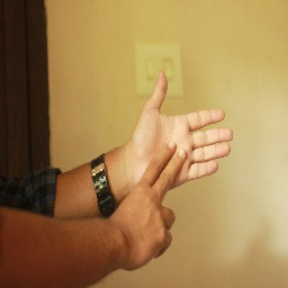N: (114, 73, 239, 251)
